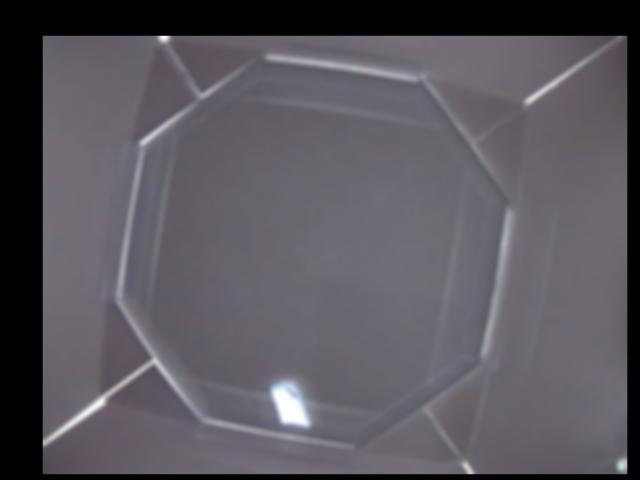China: (268, 376, 308, 430)
